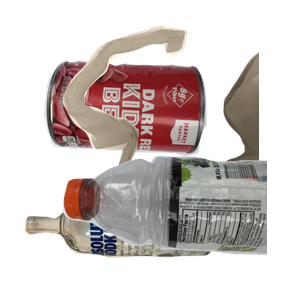glass: (22, 192, 234, 300)
metal: (41, 58, 240, 207)
plastic: (60, 152, 300, 300)
trash: (60, 23, 300, 203)
